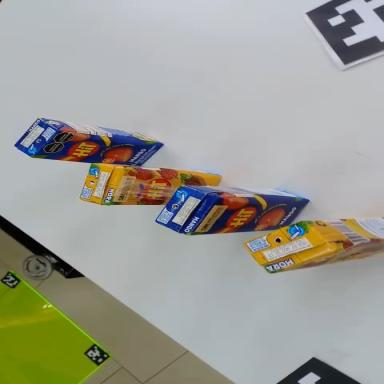HIT-MANGO: (14, 114, 164, 177), (153, 178, 310, 237)
HIT-MORA: (242, 209, 384, 277), (80, 163, 221, 214)
cara_F: (33, 127, 164, 174), (185, 191, 311, 235), (111, 167, 221, 213), (268, 239, 384, 278)
